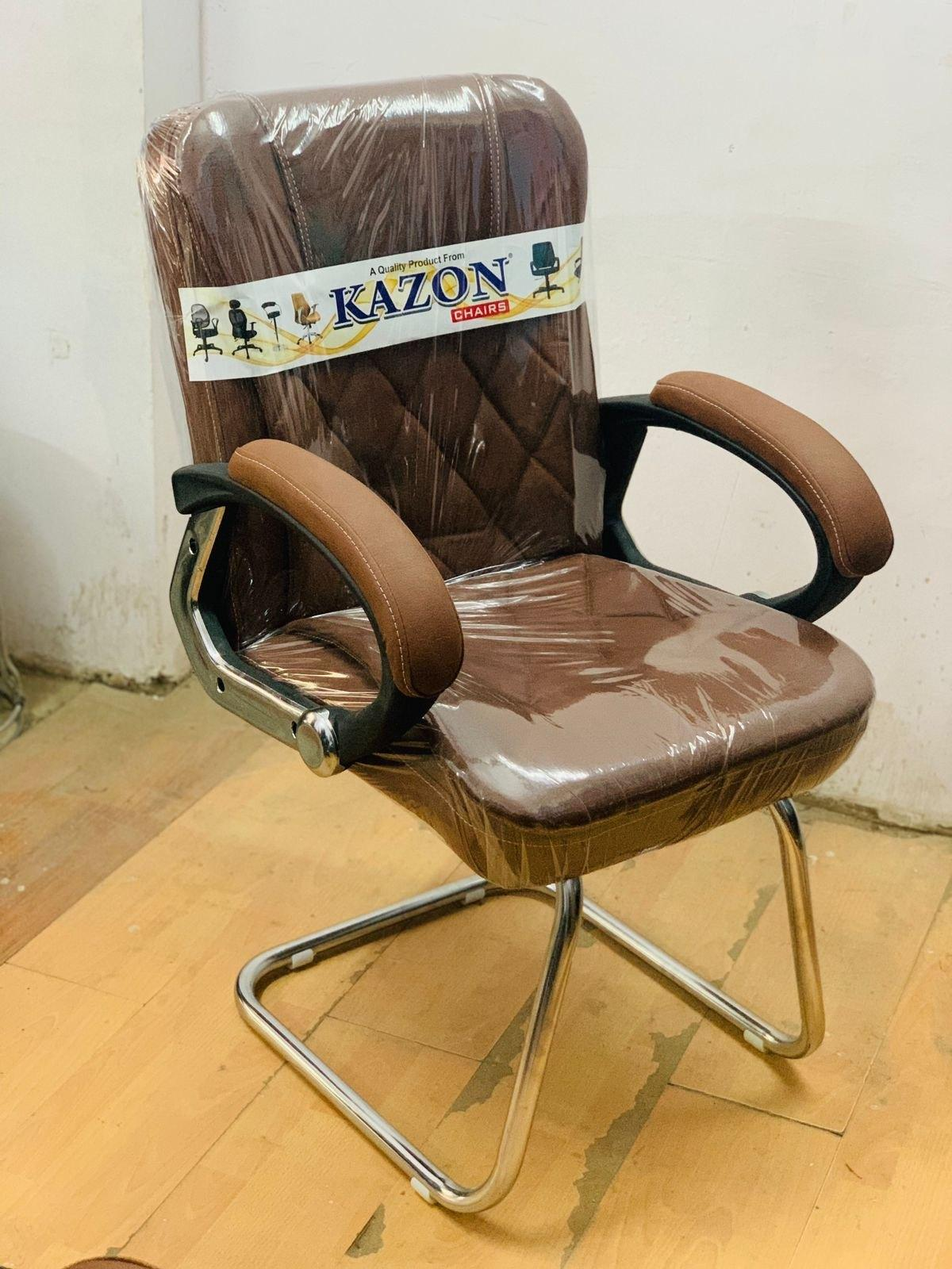chair: (97, 61, 868, 1222)
